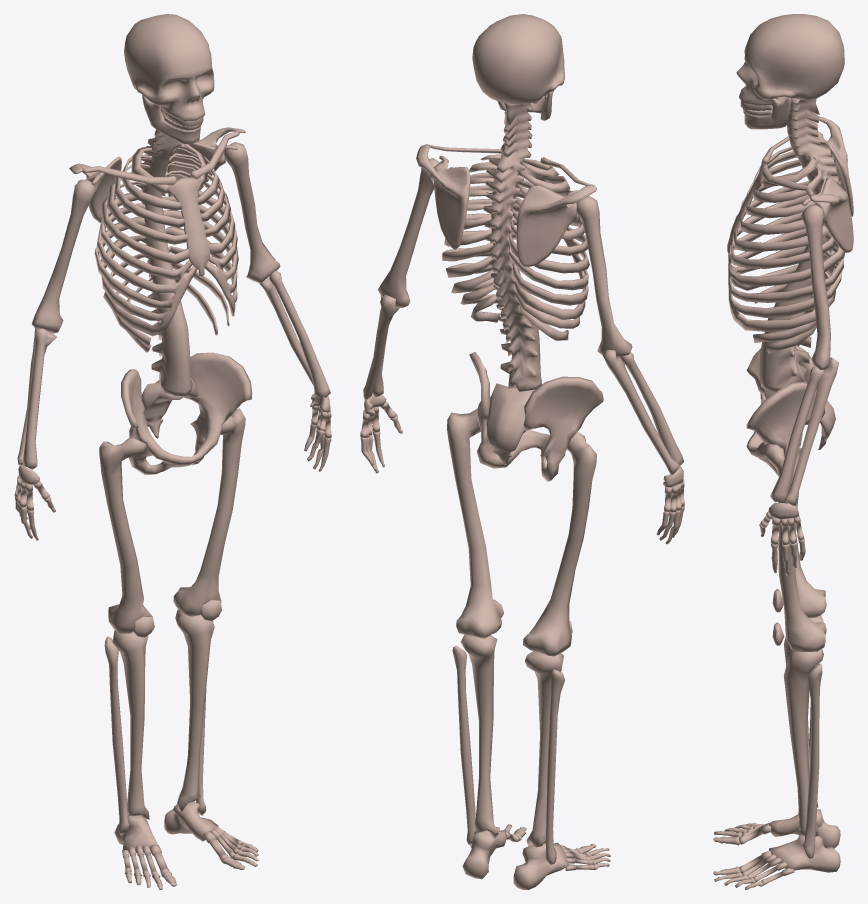
File: Skeleton_Low.obj
3 renders of one model, left to right at view 1: azimuth 30°, elevation 25°; view 2: azimuth 150°, elevation 25°; view 3: azimuth 270°, elevation 25°, orthographic. The views are drawn at different scales.
Parts seen in each view (by area): view 1: Group41108, Group31070, Group17702, Group19535, Group40924, Group58724, Group410, Group38689, Group50421, Group63790, Group54347, Group30733 (+5 smaller); view 2: Group41108, Group31070, Group410, Group17702, Group63790, Group19535, Group40924, Group58724, Group50421, Group37188, Group54347, Group39917 (+1 smaller); view 3: Group41108, Group17702, Group410, Group31070, Group40924, Group19535, Group63790, Group54347, Group58724, Group50421, Group37188, Group38689 (+8 smaller).
Part boxes in pixels (bbox=[...]): Group41108: bbox=[94, 143, 238, 352]; Group31070: bbox=[99, 408, 245, 633]; Group17702: bbox=[124, 14, 214, 121]; Group19535: bbox=[112, 609, 213, 819]; Group40924: bbox=[121, 352, 252, 475]; Group58724: bbox=[32, 142, 280, 333]; Group410: bbox=[136, 106, 192, 395]; Group38689: bbox=[23, 271, 330, 469]; Group50421: bbox=[104, 624, 214, 835]; Group63790: bbox=[69, 127, 245, 222]; Group54347: bbox=[114, 801, 218, 853]; Group30733: bbox=[167, 177, 209, 277]; Group41108: bbox=[442, 154, 589, 340]; Group31070: bbox=[447, 408, 596, 656]; Group410: bbox=[483, 100, 541, 391]; Group17702: bbox=[472, 14, 564, 104]; Group63790: bbox=[416, 144, 596, 266]; Group19535: bbox=[460, 635, 563, 847]; Group40924: bbox=[469, 352, 603, 481]; Group58724: bbox=[378, 158, 632, 357]; Group50421: bbox=[452, 645, 564, 865]; Group37188: bbox=[363, 294, 680, 475]; Group54347: bbox=[462, 830, 568, 889]; Group39917: bbox=[486, 383, 534, 464]; Group41108: bbox=[728, 147, 844, 353]; Group17702: bbox=[736, 14, 844, 105]; Group410: bbox=[759, 98, 841, 391]; Group31070: bbox=[764, 444, 826, 651]; Group40924: bbox=[746, 345, 825, 476]; Group19535: bbox=[784, 614, 823, 836]; Group63790: bbox=[802, 116, 853, 252]; Group54347: bbox=[769, 809, 840, 872]; Group58724: bbox=[801, 130, 830, 370]; Group50421: bbox=[803, 663, 822, 859]; Group37188: bbox=[784, 249, 838, 505]; Group38689: bbox=[770, 367, 823, 502].
Bounding box in the file's own units: 4.78 × 12.31 × 1.86.
